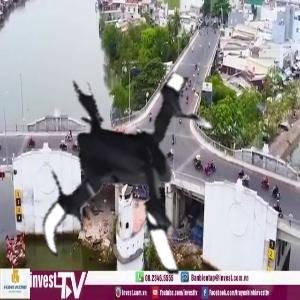drone: (7, 40, 254, 287)
